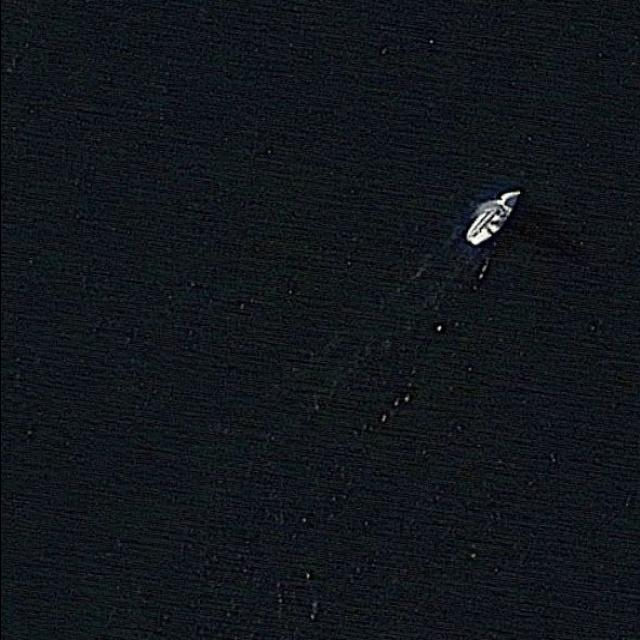ship: (464, 189, 520, 247)
